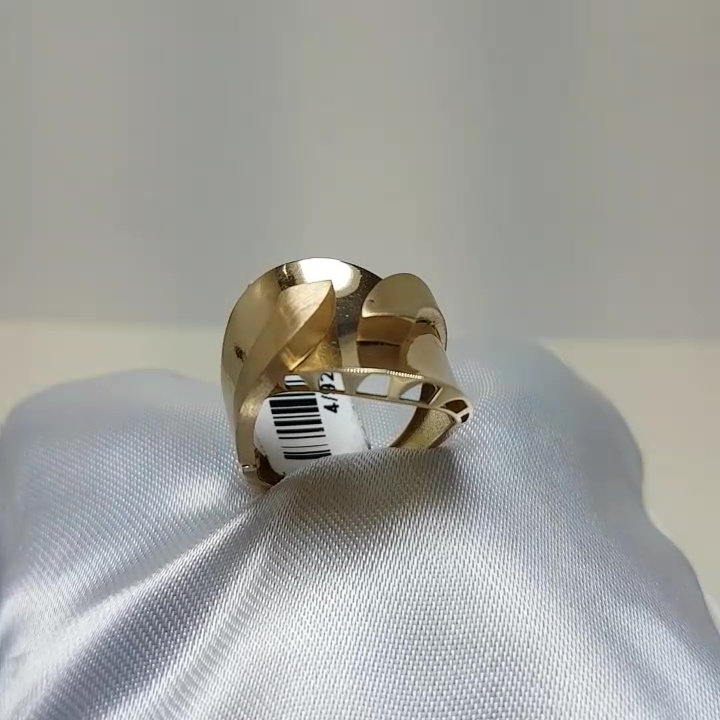Ring 4: (205, 250, 472, 508)
